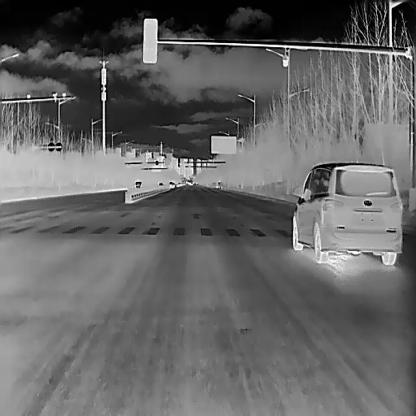car: (292, 161, 402, 265), (133, 180, 141, 188), (168, 180, 173, 188)
